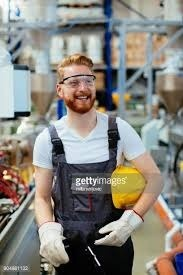person without safety: (25, 52, 159, 273)
